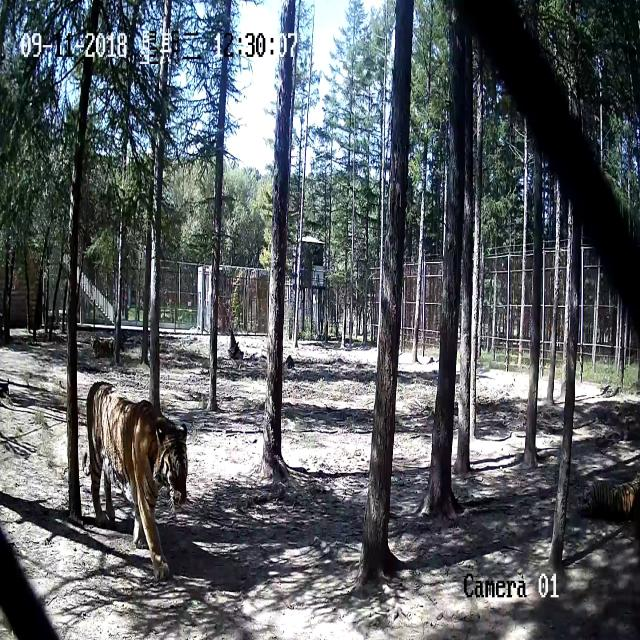Tiger: (84, 376, 197, 581)
